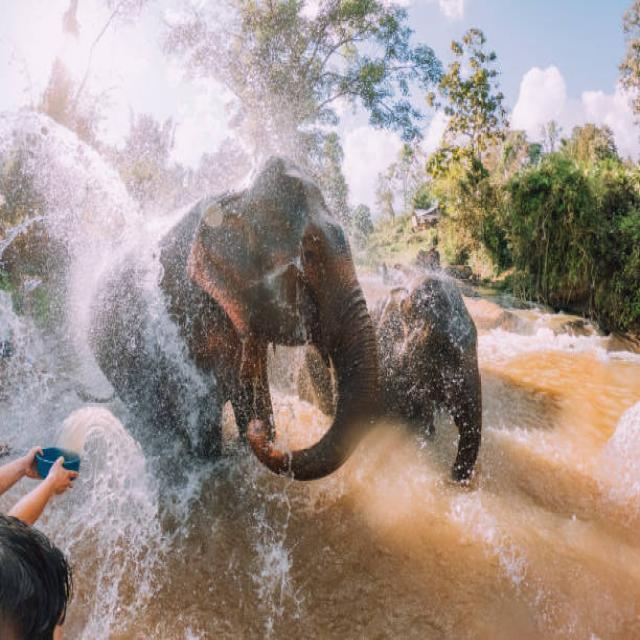Elephant: (114, 161, 382, 513), (380, 262, 523, 499)
